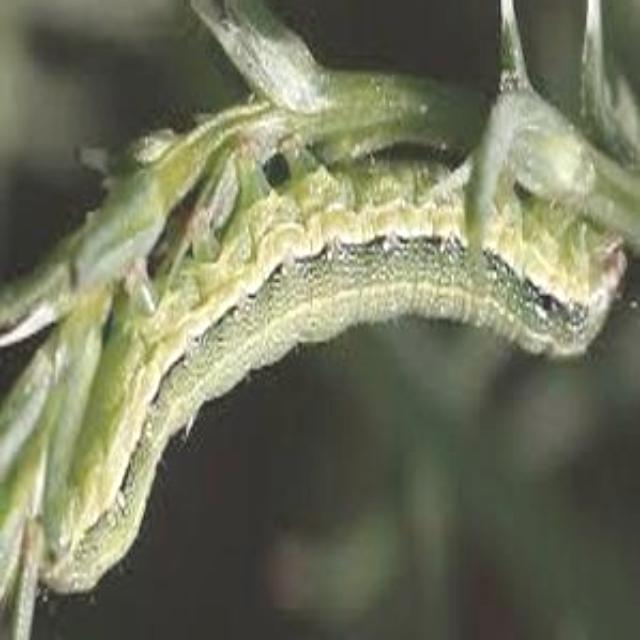Beet armyworm: (24, 71, 640, 609)
